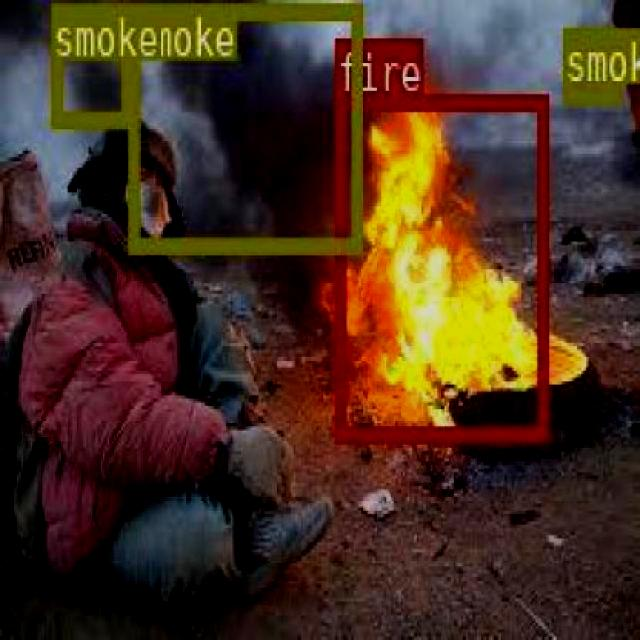fire: (334, 92, 548, 440)
smoke: (127, 3, 360, 252), (49, 2, 129, 124), (560, 26, 618, 100)
